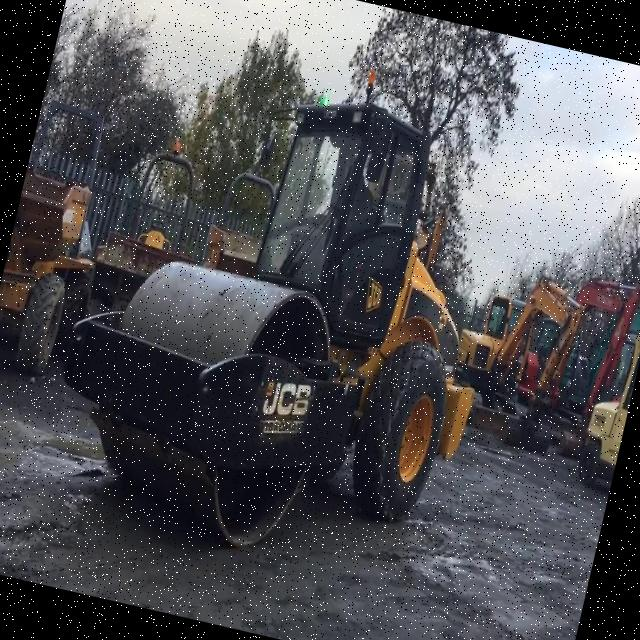Excavator: (442, 266, 586, 459)
Roller: (35, 54, 528, 588)
